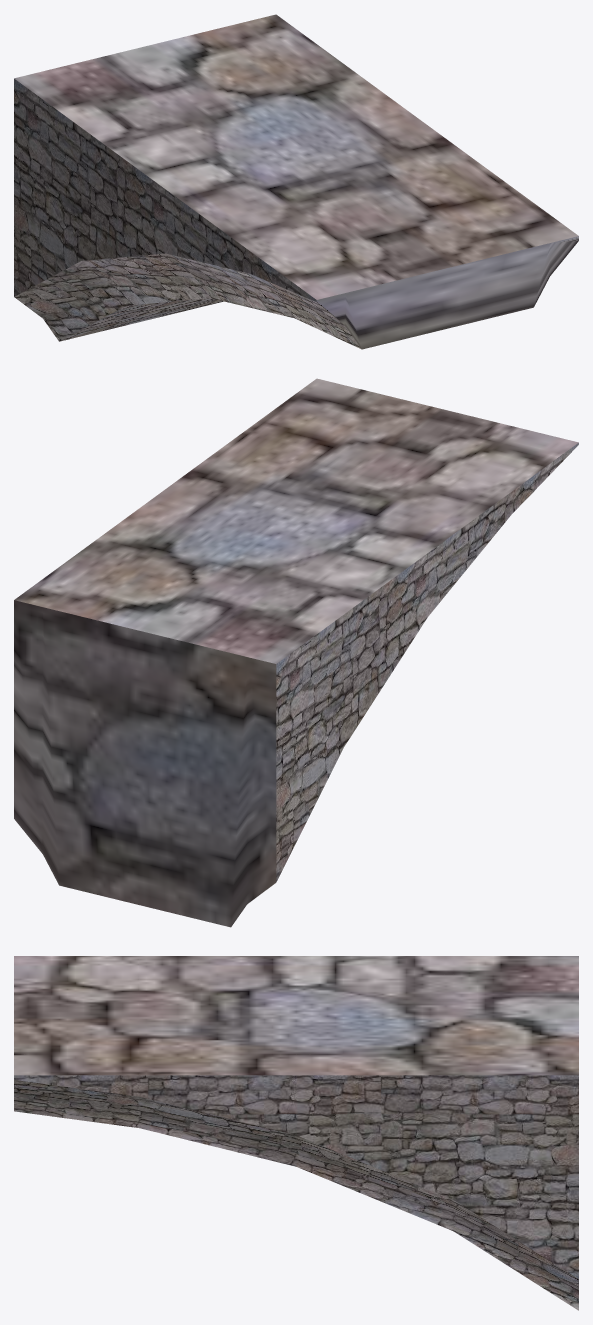
The model's file is Arch 2.FBX.
The picture shows the model from 3 angles, top to bottom: view 1: azimuth 30°, elevation 25°; view 2: azimuth 150°, elevation 25°; view 3: azimuth 270°, elevation 25°; orthographic projection. The views are drawn at different scales.
Visible parts, largest first — view 1: Arch; view 2: Arch; view 3: Arch.
Part boxes in pixels (x1=…): Arch: x1=14, y1=14, x2=578, y2=349; Arch: x1=14, y1=378, x2=578, y2=927; Arch: x1=14, y1=956, x2=578, y2=1310.
Bounding box in the file's own units: 39.37 × 39.37 × 78.74.
Materials: 1 (1 with a texture image).
